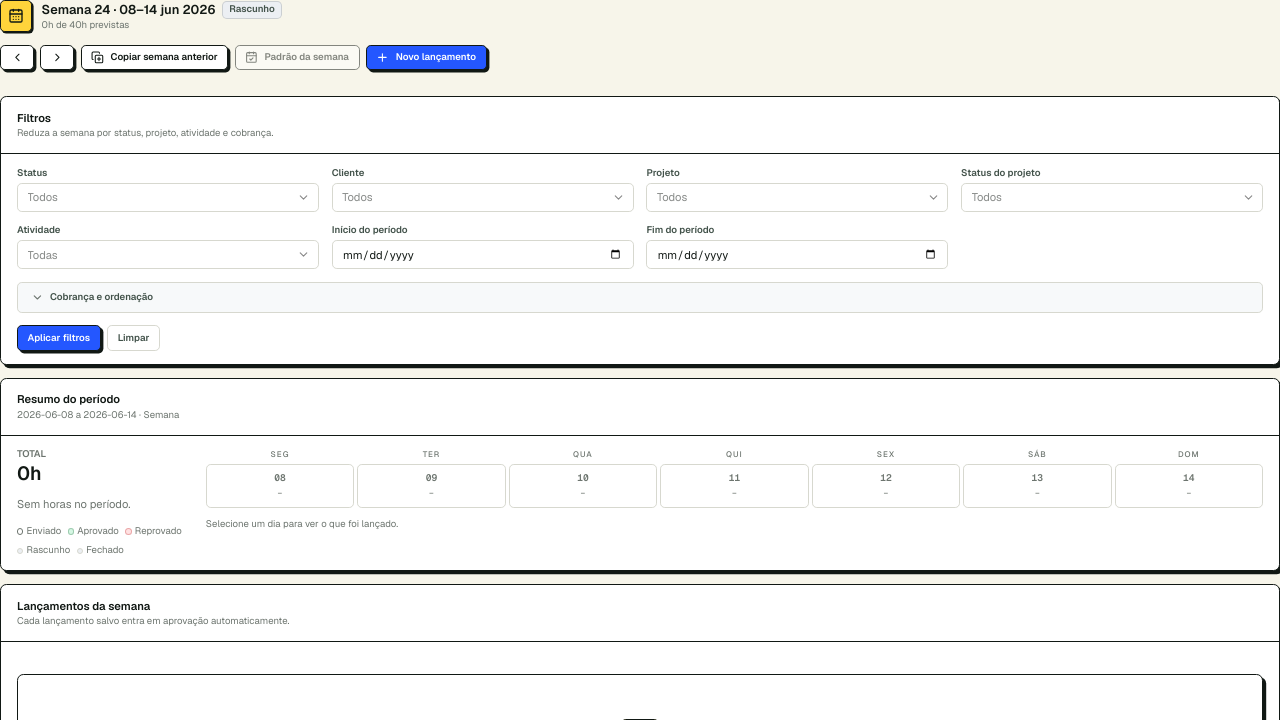
TimesheetWeekView — Novo lançamento × HORAS_LANCAMENTOS › não leva à tela cheia quando a matriz nega; abre o formulário da grade
Click the button "Novo lançamento": [426, 58] box x1=366 y1=45 x2=487 y2=70
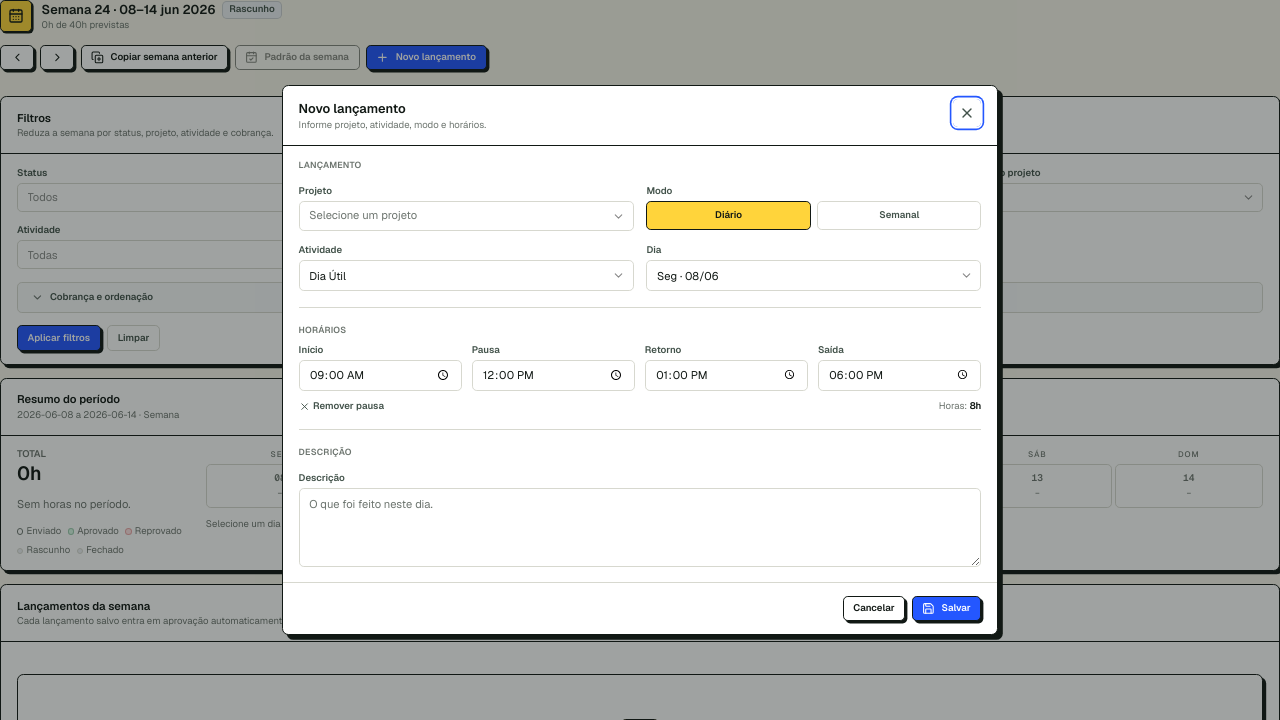
Expected: the dialog is shown, x1=282 y1=85 x2=998 y2=635
